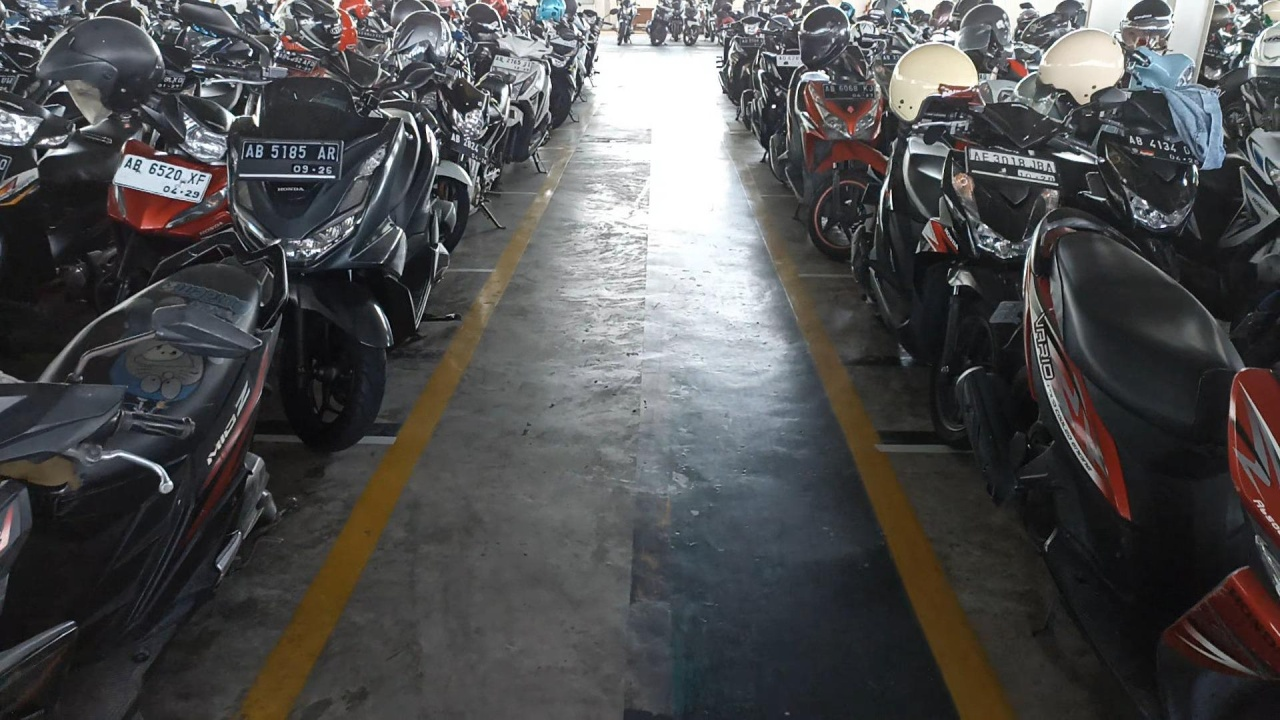plate: (113, 154, 212, 202), (238, 139, 340, 179), (968, 147, 1060, 187), (1129, 133, 1200, 166), (448, 131, 489, 166), (823, 83, 875, 100)
